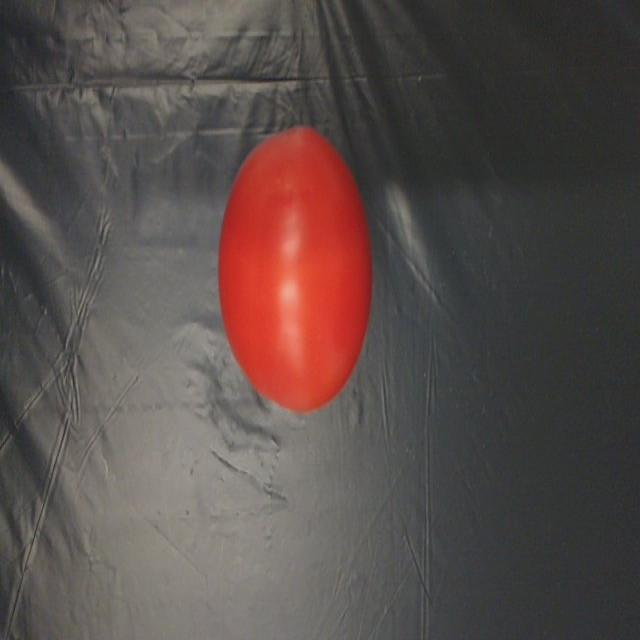kirmizi: (207, 128, 386, 428)
